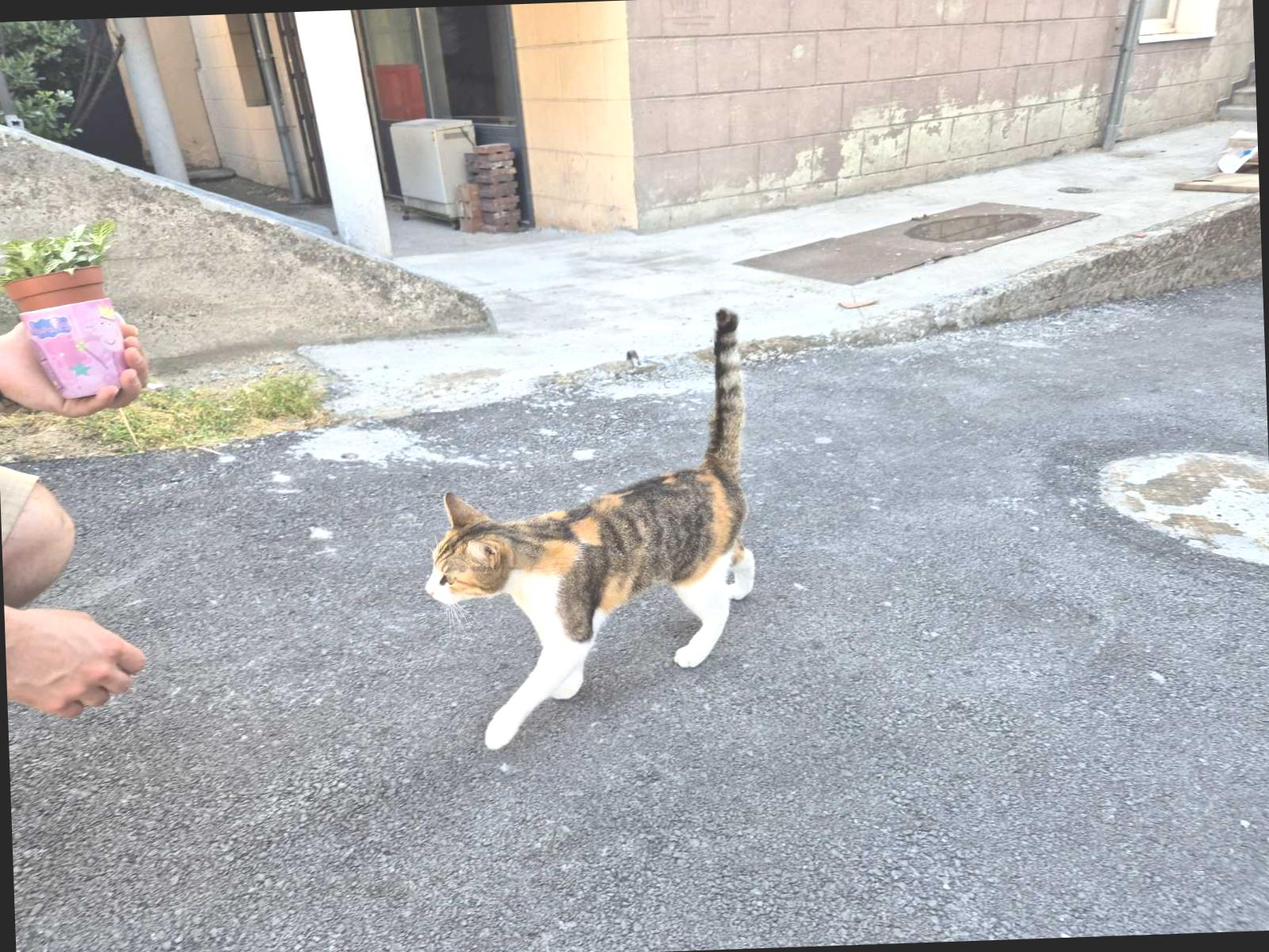macka: (418, 305, 764, 751)
